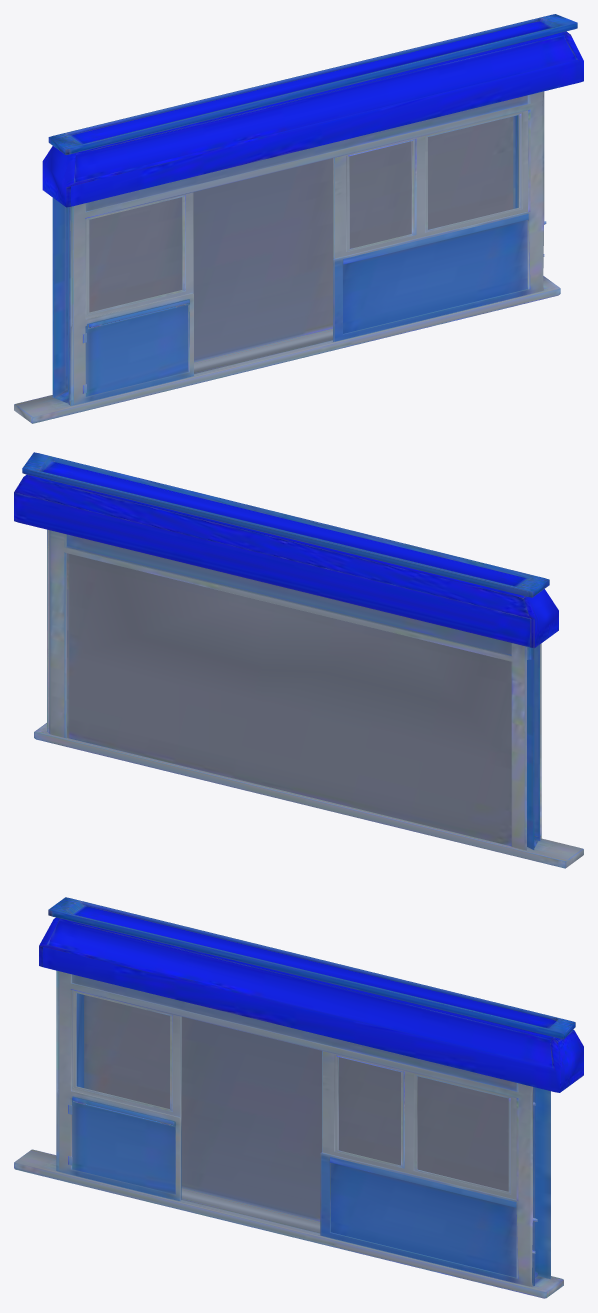
The model's file is street-shop-news.glb.
The picture shows the model from 3 angles, top to bottom: view 1: azimuth 30°, elevation 25°; view 2: azimuth 150°, elevation 25°; view 3: azimuth 330°, elevation 25°; orthographic projection.
Parts seen in each view (by area): view 1: tripo_node_26c4c365-56bb-49b8-8435-0f5b0dbac5db; view 2: tripo_node_26c4c365-56bb-49b8-8435-0f5b0dbac5db; view 3: tripo_node_26c4c365-56bb-49b8-8435-0f5b0dbac5db.
Boxes of the visible parts, left/top/right/bottom form: tripo_node_26c4c365-56bb-49b8-8435-0f5b0dbac5db: left=14, top=14, right=583, bottom=423; tripo_node_26c4c365-56bb-49b8-8435-0f5b0dbac5db: left=14, top=452, right=583, bottom=868; tripo_node_26c4c365-56bb-49b8-8435-0f5b0dbac5db: left=14, top=897, right=583, bottom=1298.
Size of the model in its own units: 6.4 by 3 by 0.5.
Materials: 1 (1 with a texture image).
